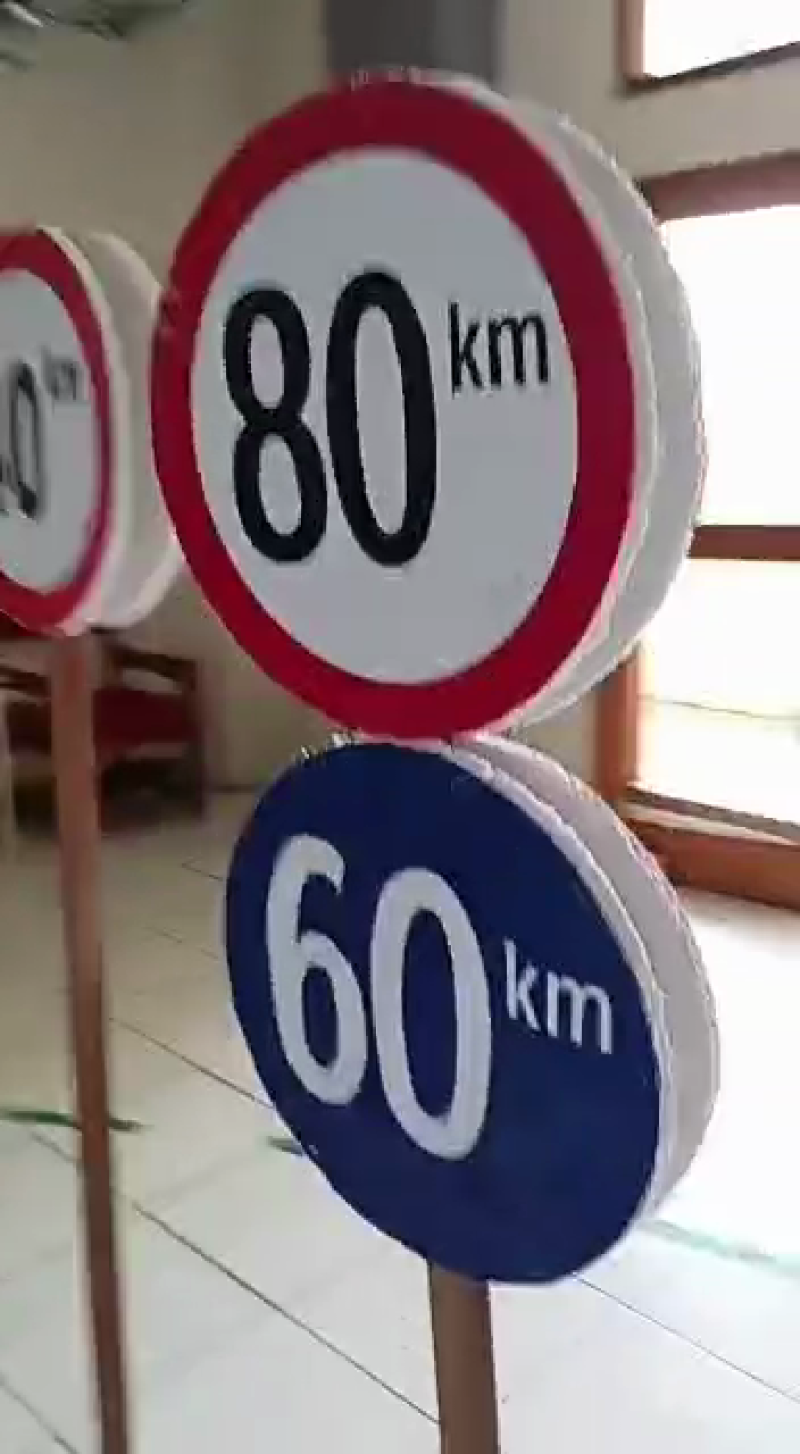batas maksimal 80kmperjam minimal 60kmperjam: (166, 79, 672, 1301)
